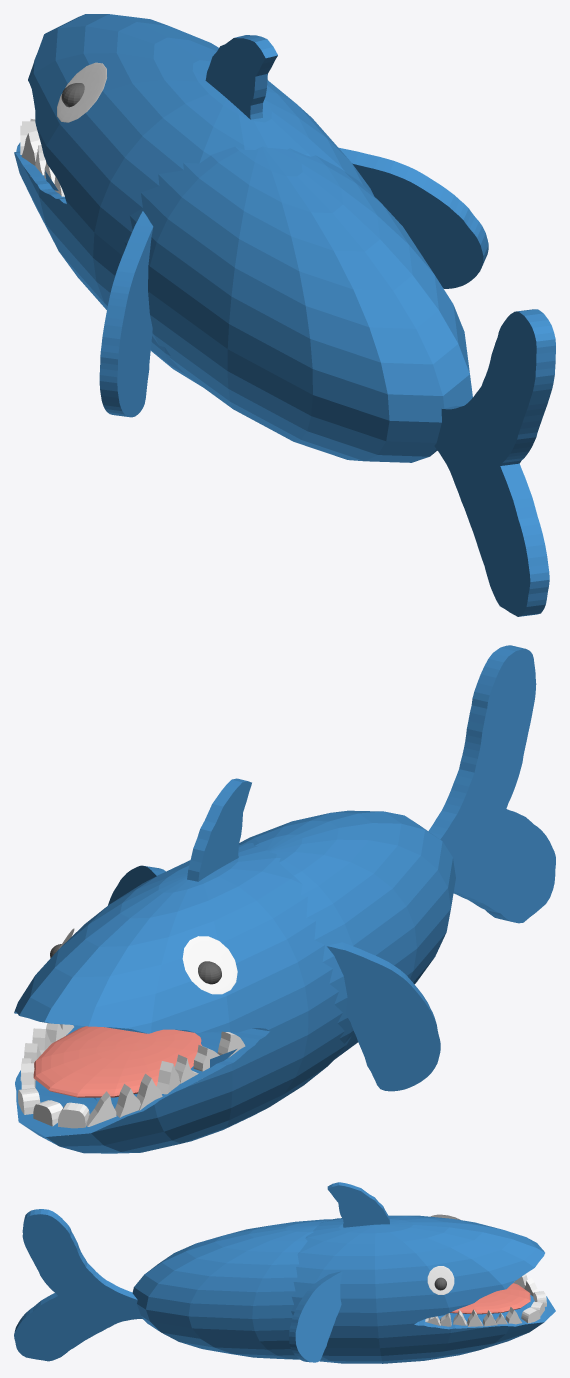
File: shark_9fc13419.glb
3 renders of one model, top to bottom at view 1: azimuth 30°, elevation 25°; view 2: azimuth 150°, elevation 25°; view 3: azimuth 270°, elevation 25°, orthographic. The views are drawn at different scales.
Visible parts, largest first — view 1: Material2 (×2); view 2: Material2 (×3); view 3: Material2 (×3).
Boxes of the visible parts, box(x1,y1,x2,y2) form: Material2 (×2): box(14, 14, 555, 616); Material2 (×3): box(14, 645, 555, 1153); Material2 (×3): box(14, 1182, 555, 1363).
Size of the model in its own units: 18061 by 15978 by 42839.
